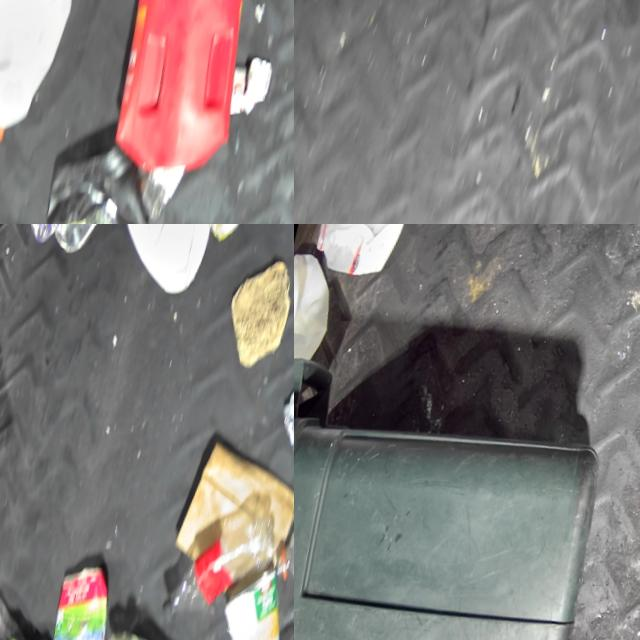can: (200, 557, 294, 640), (42, 224, 115, 262), (194, 224, 259, 250), (11, 224, 70, 247)
milk_jug: (0, 0, 88, 159), (101, 224, 227, 304), (294, 248, 345, 417), (309, 224, 418, 285)
non_white_jug: (88, 0, 271, 188), (0, 126, 175, 224), (19, 555, 146, 640)
plastic_bottle: (148, 489, 285, 640), (264, 448, 294, 605)
